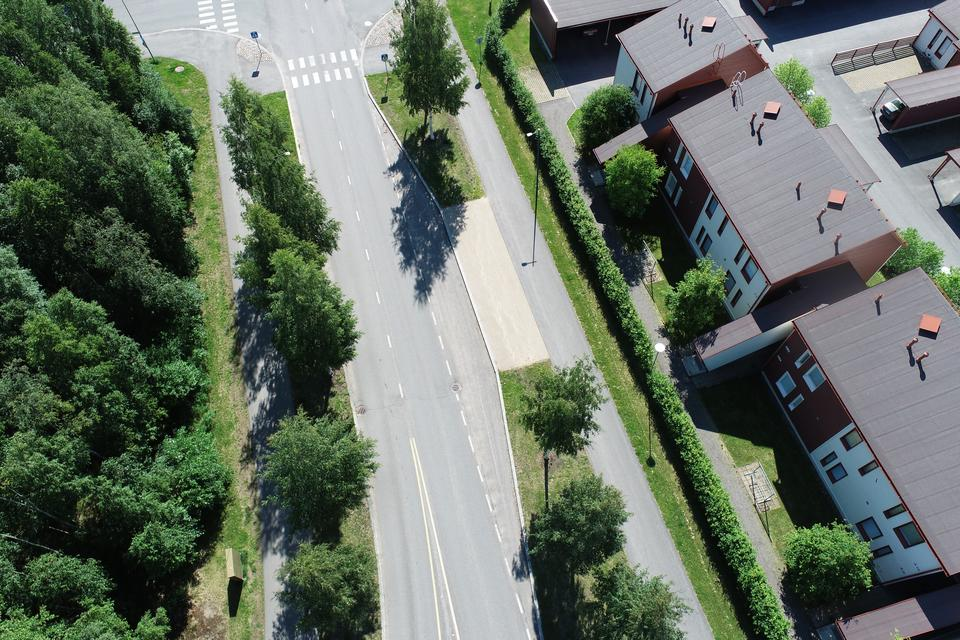intersection: (154, 26, 511, 125)
